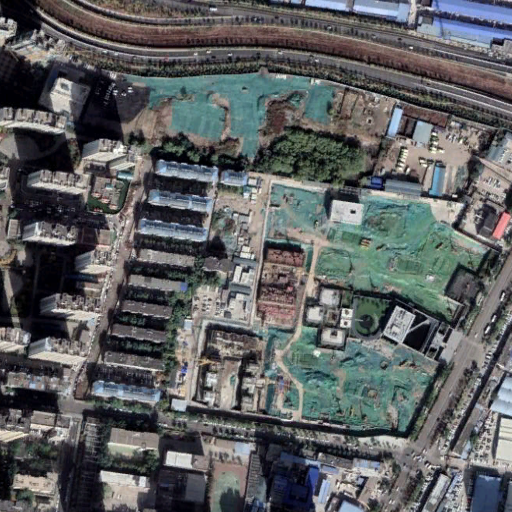cw: (263, 180, 489, 320), (260, 327, 434, 439), (124, 73, 338, 158)
